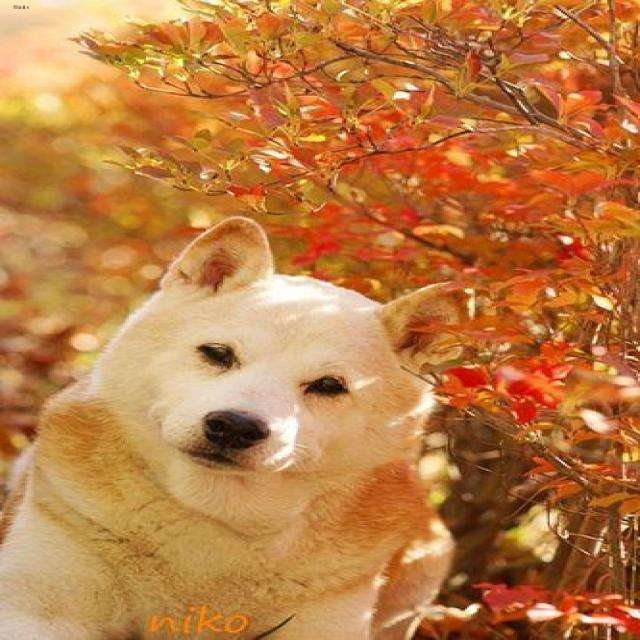dog-shiba_inu: (2, 209, 494, 637)
